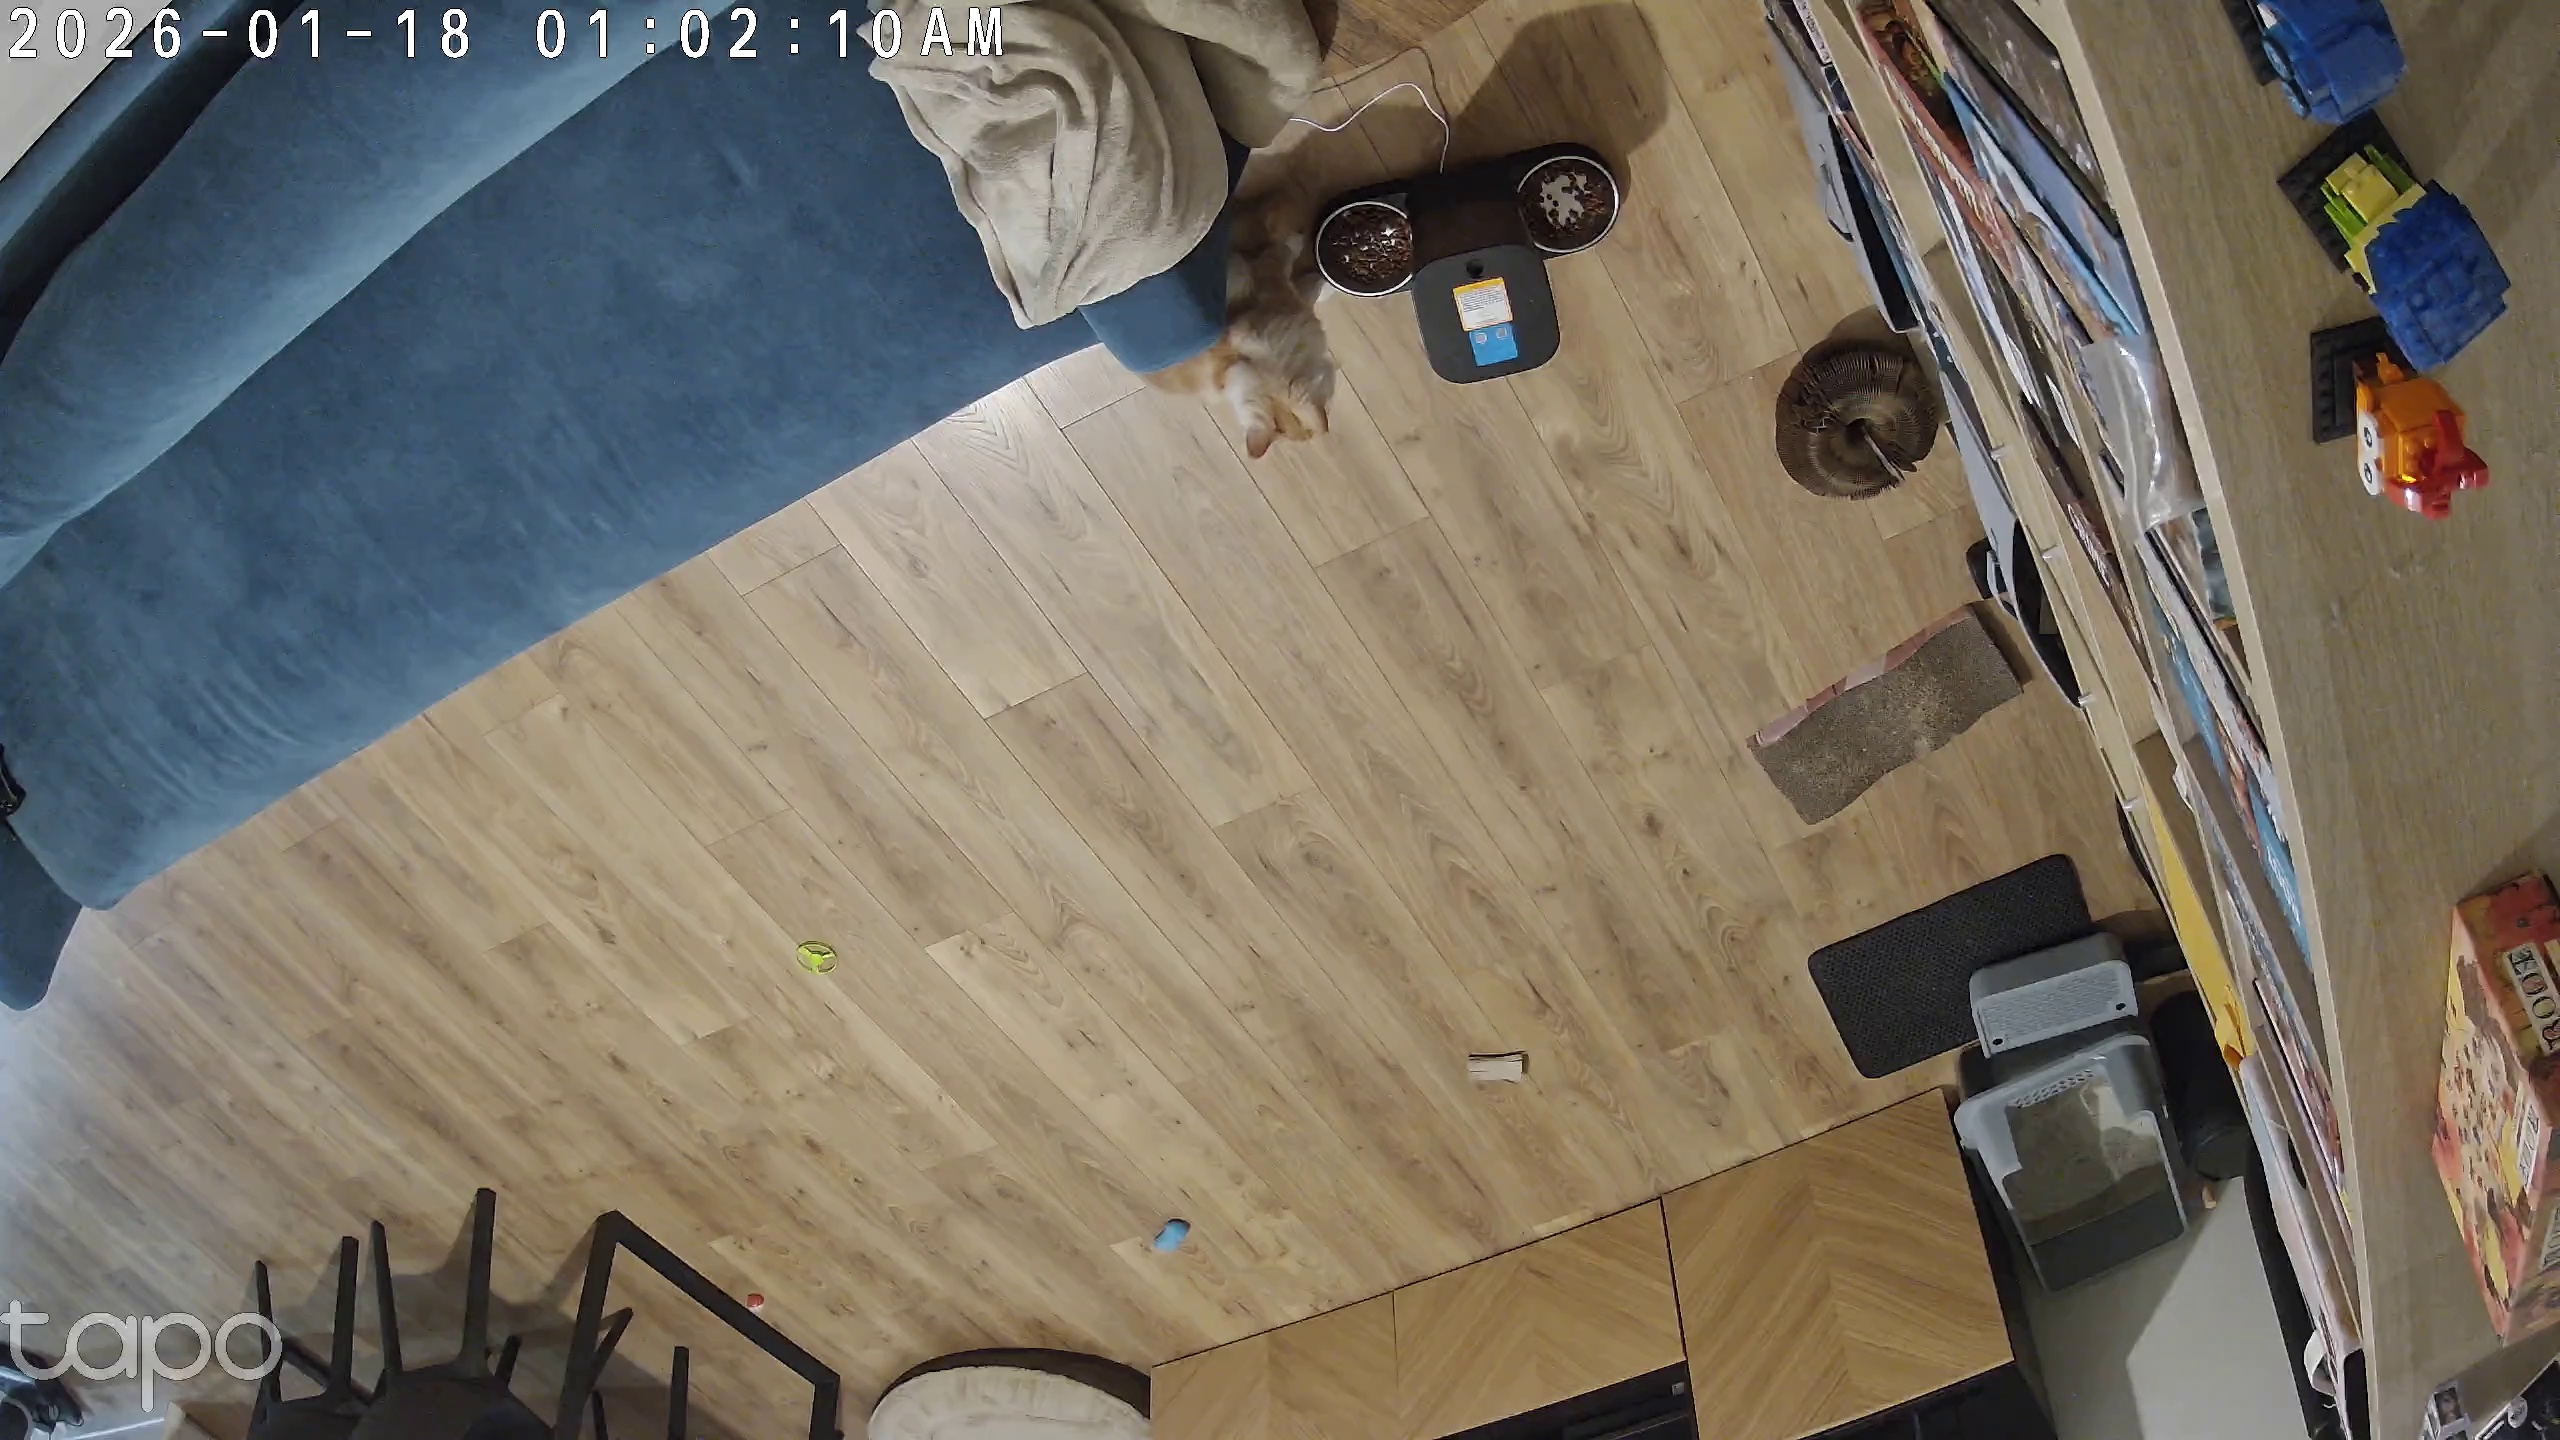Simba: (1138, 190, 1343, 461)
